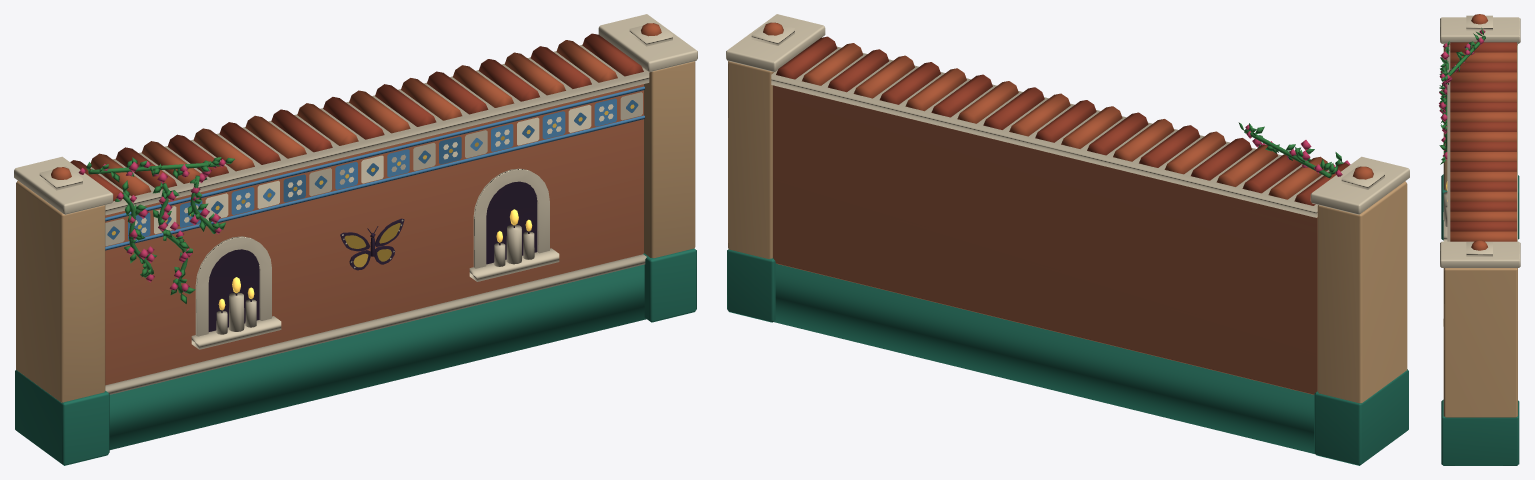
The model's file is casita-terrace-wall.glb.
3 views of the same model, side by side, from view 1: azimuth 30°, elevation 25°; view 2: azimuth 150°, elevation 25°; view 3: azimuth 270°, elevation 25° (orthographic). The views are drawn at different scales.
Parts seen in each view (by area): view 1: casita-terrace-wall; view 2: casita-terrace-wall; view 3: casita-terrace-wall.
Part boxes in pixels (box(x1,y1,x2,y2)): casita-terrace-wall: box(14, 14, 697, 465); casita-terrace-wall: box(726, 14, 1409, 465); casita-terrace-wall: box(1439, 14, 1520, 465).
Size of the model in its own units: 4.8 by 2 by 0.6831.
